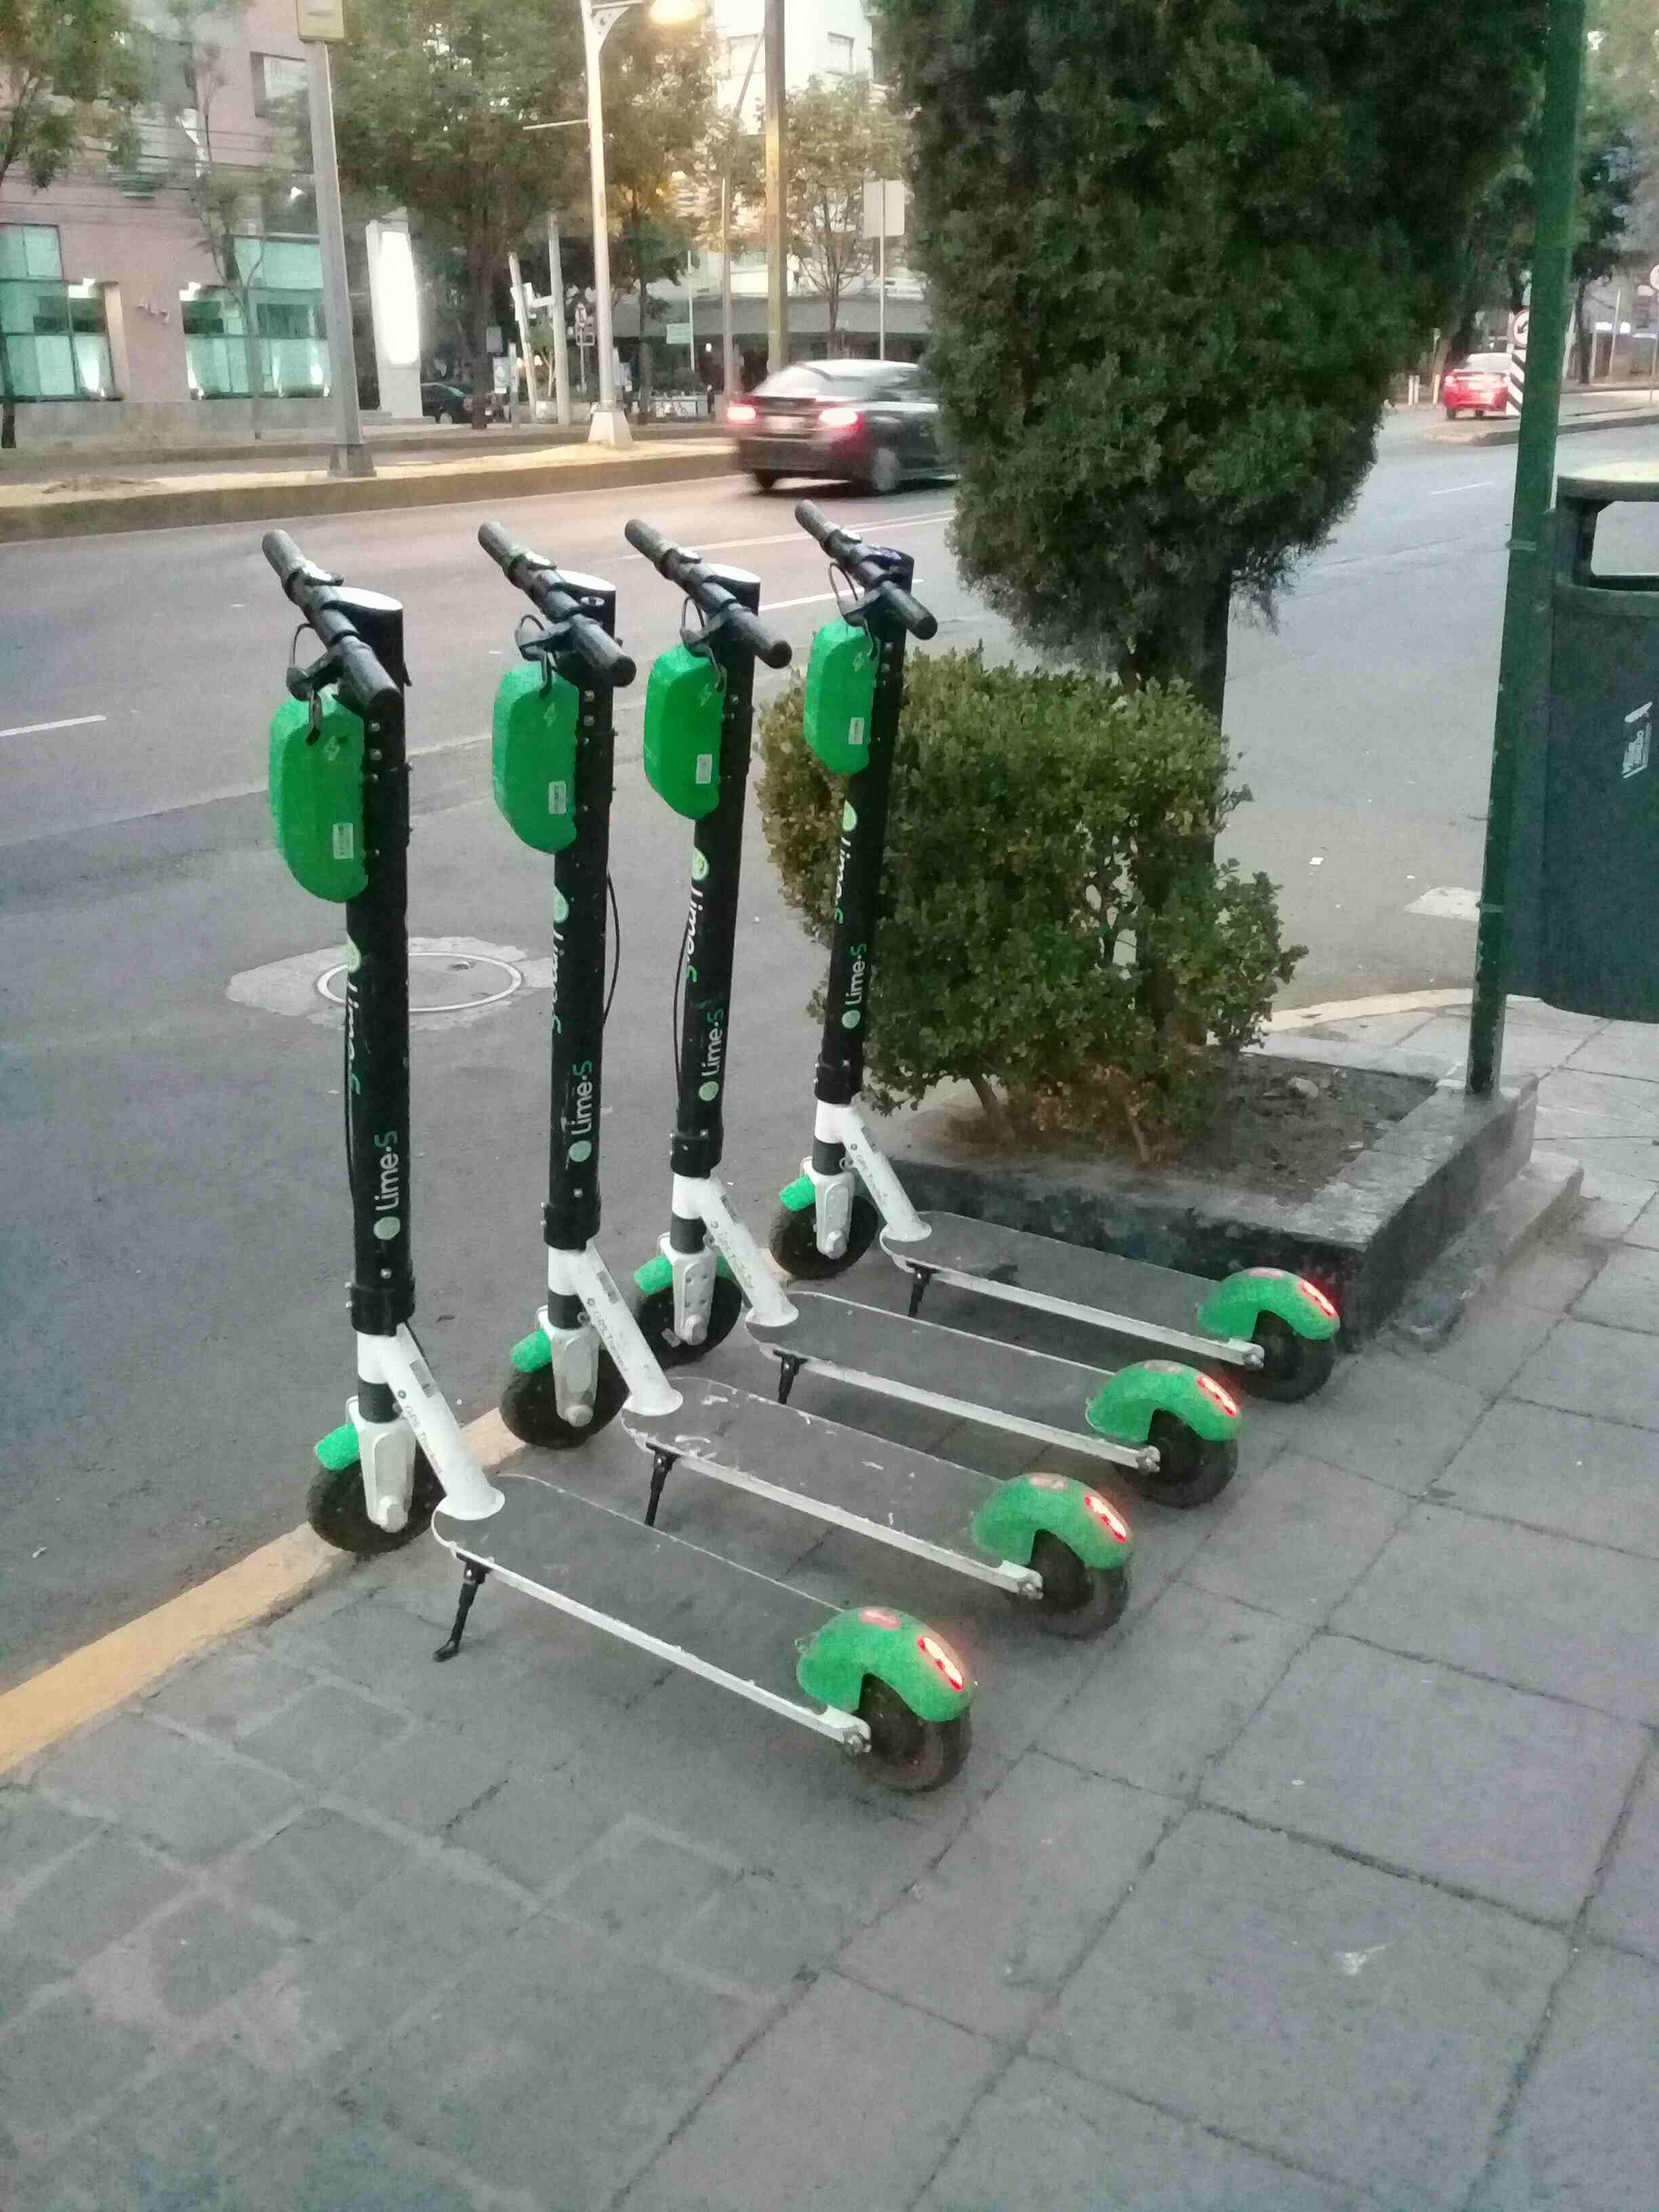too close: (230, 1360, 504, 1618), (471, 1277, 687, 1493)
